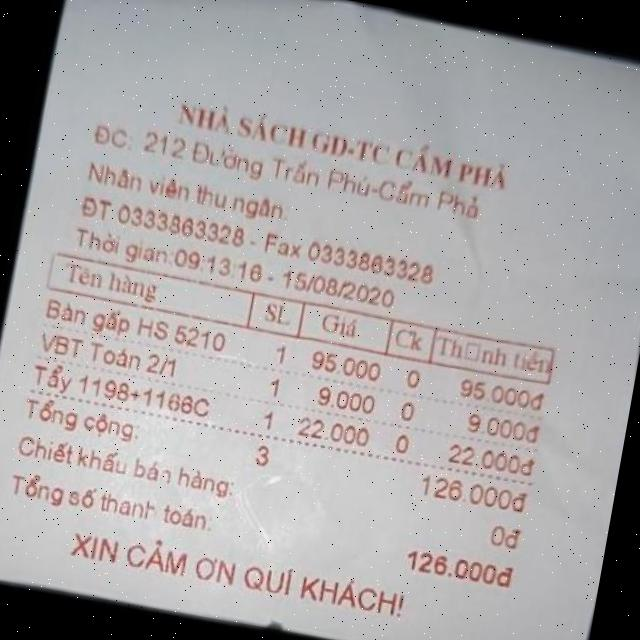Date: (276, 264, 416, 316)
Store_Name: (158, 74, 524, 200)
amount_number: (398, 540, 520, 600)
label_total: (4, 469, 216, 542)
